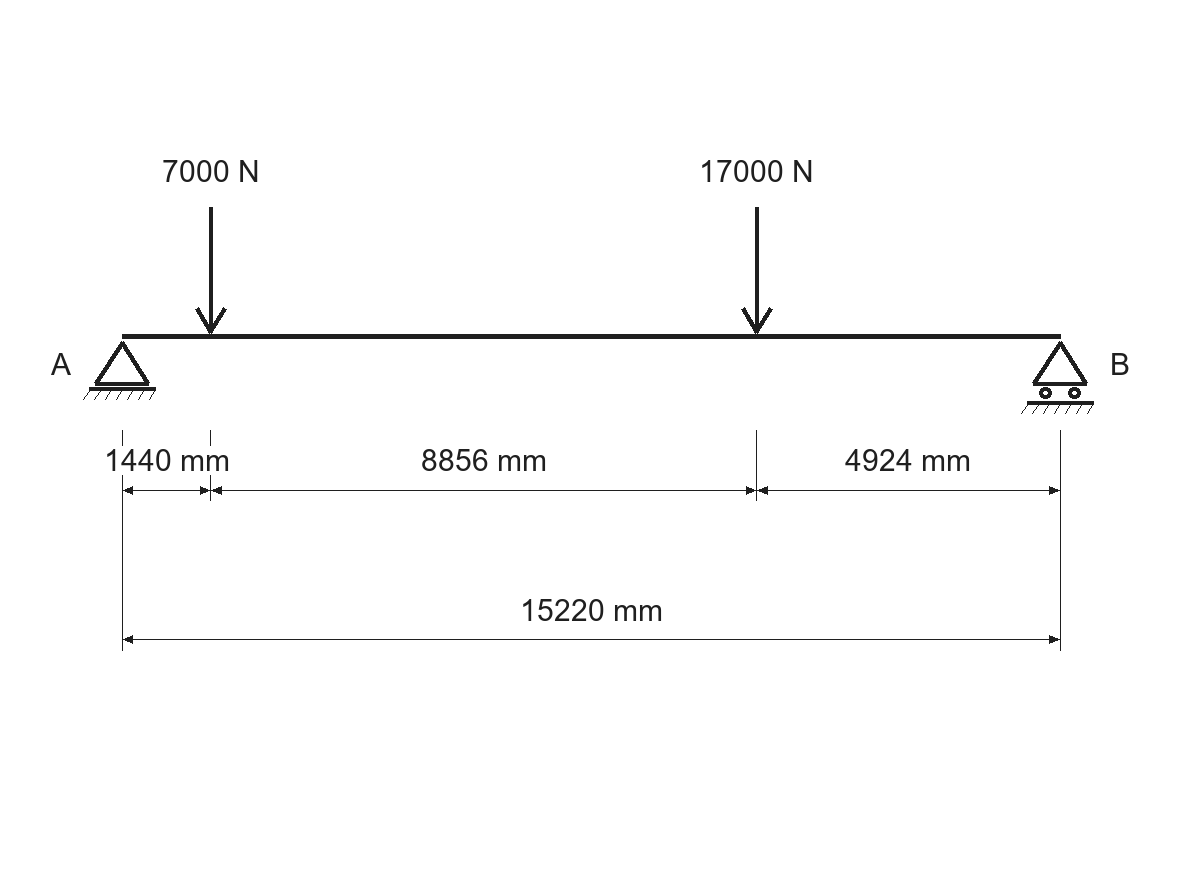pin_support: (83, 341, 156, 400)
point_load: (195, 207, 227, 334), (741, 207, 773, 334)
roller_support: (1021, 341, 1094, 414)
